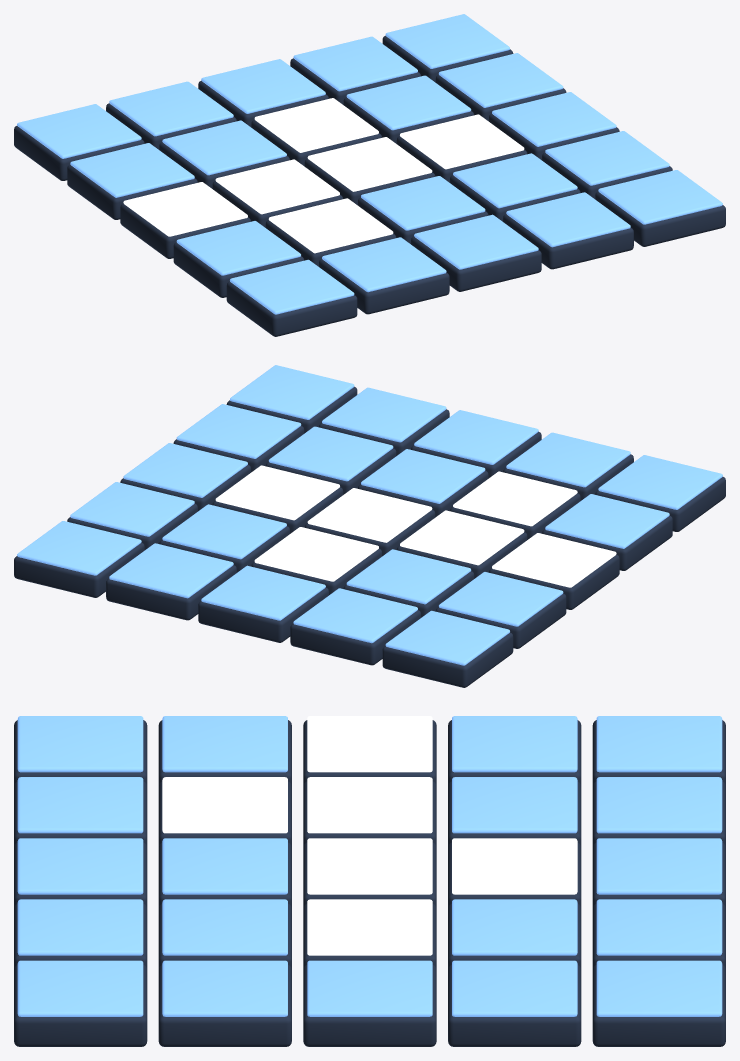
File: 03_isometric_settlement_grid.glb
3 views of the same model, one above another, from view 1: azimuth 30°, elevation 25°; view 2: azimuth 150°, elevation 25°; view 3: azimuth 270°, elevation 25° (orthographic). The views are drawn at different scales.
Visible parts, largest first — view 1: TopCap_09, TopCap_02, TopCap_07, TopCap_11, TopCap_14, TopCap_15, TopCap_24, TopCap_01, TopCap_03, TopCap_05, TopCap_10, TopCap_19 (+38 smaller); view 2: TopCap_19, TopCap_04, TopCap_11, TopCap_14, TopCap_15, TopCap_17, TopCap_22, TopCap_02, TopCap_09, TopCap_10, TopCap_20, TopCap_21 (+38 smaller); view 3: TopCap_02, TopCap_03, TopCap_04, TopCap_05, TopCap_22, TopCap_23, TopCap_24, TopCap_25, TopCap_01, TopCap_21, TopCap_13, TopCap_07 (+38 smaller).
Boxes of the visible parts, box(x1,y1,x2,y2) form: TopCap_09: box(453, 153, 577, 208); TopCap_02: box(322, 237, 446, 292); TopCap_07: box(268, 198, 393, 253); TopCap_11: box(123, 182, 247, 236); TopCap_14: box(400, 114, 524, 169); TopCap_15: box(492, 92, 616, 146); TopCap_24: box(293, 36, 417, 91); TopCap_01: box(230, 259, 354, 314); TopCap_03: box(414, 214, 538, 269); TopCap_05: box(598, 170, 722, 224); TopCap_10: box(545, 131, 669, 185); TopCap_19: box(346, 75, 471, 130); TopCap_19: box(162, 504, 286, 559); TopCap_04: box(322, 387, 446, 442); TopCap_11: box(492, 533, 616, 587); TopCap_14: box(215, 465, 339, 520); TopCap_15: box(123, 443, 247, 497); TopCap_17: box(346, 549, 471, 604); TopCap_22: box(293, 588, 417, 643); TopCap_02: box(506, 432, 630, 487); TopCap_09: box(268, 426, 393, 481); TopCap_10: box(176, 404, 301, 458); TopCap_20: box(70, 482, 194, 536); TopCap_21: box(385, 610, 509, 665); TopCap_02: box(17, 777, 143, 833); TopCap_03: box(17, 838, 143, 894); TopCap_04: box(17, 899, 143, 955); TopCap_05: box(17, 960, 143, 1016); TopCap_22: box(596, 777, 722, 833); TopCap_23: box(596, 838, 722, 894); TopCap_24: box(596, 899, 722, 955); TopCap_25: box(596, 960, 722, 1016); TopCap_01: box(17, 716, 143, 772); TopCap_21: box(596, 716, 722, 772); TopCap_13: box(307, 838, 432, 894); TopCap_07: box(162, 777, 287, 833).
Size of the model in its own units: 7.48 by 0.4 by 7.48.
